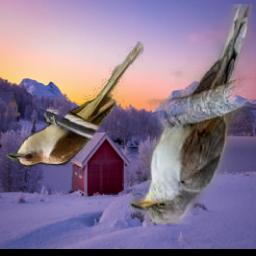Cuckoo: (129, 5, 252, 225), (6, 43, 144, 168)
